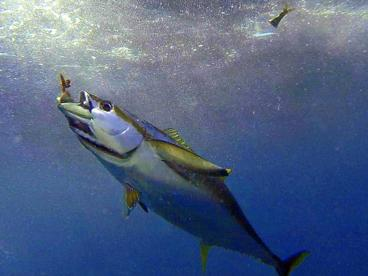Scombridae -Tunas-: (50, 87, 310, 276)
